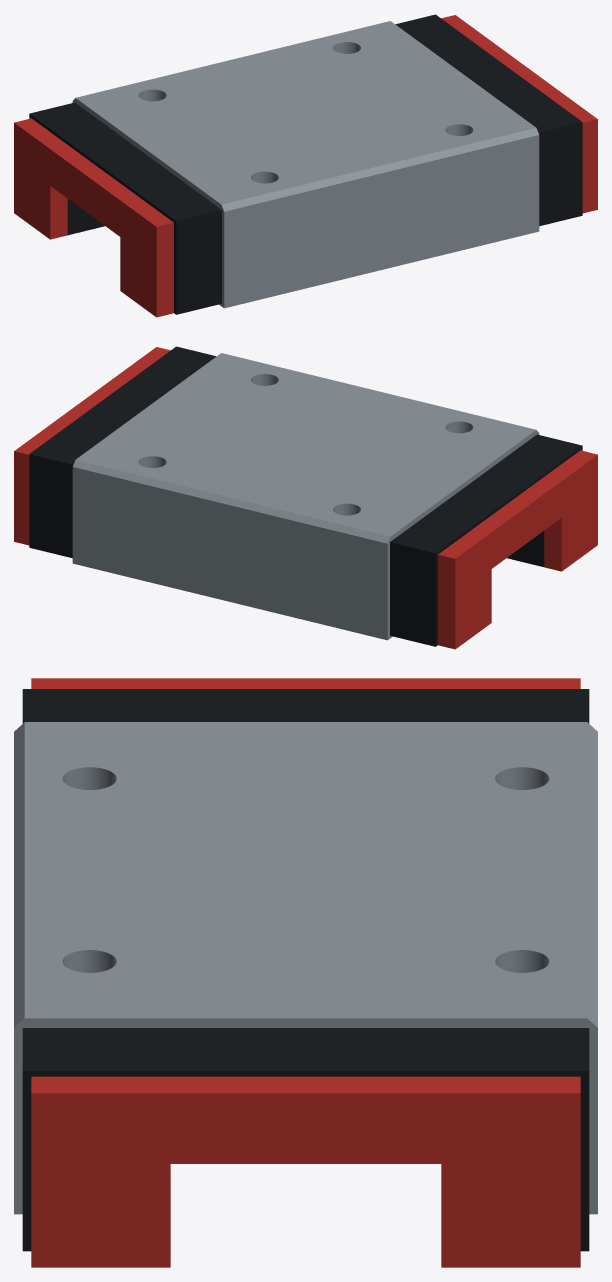
File: mgn12h_patim.glb
3 views of the same model, one above another, from view 1: azimuth 30°, elevation 25°; view 2: azimuth 150°, elevation 25°; view 3: azimuth 270°, elevation 25° (orthographic). The views are drawn at different scales.
Parts seen in each view (by area): view 1: mgn12h_patim; view 2: mgn12h_patim; view 3: mgn12h_patim.
Part boxes in pixels (<box>): mgn12h_patim: <box>14,14,597,317</box>; mgn12h_patim: <box>14,346,597,649</box>; mgn12h_patim: <box>14,678,597,1267</box>.
Bounding box in the file's own units: 45.4 × 10 × 27.
